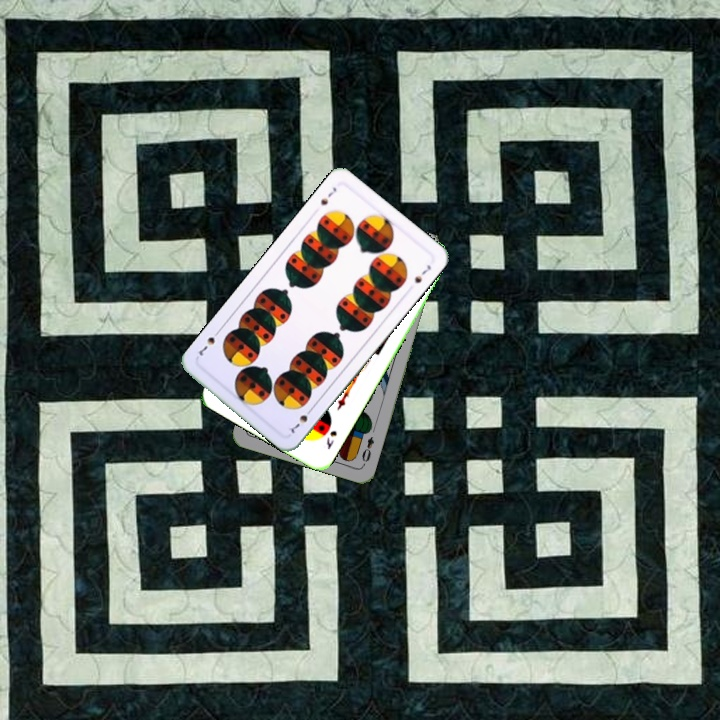EO: (358, 432, 377, 468)
S7: (287, 403, 316, 436), (316, 183, 339, 208)
SK: (322, 426, 340, 452)
